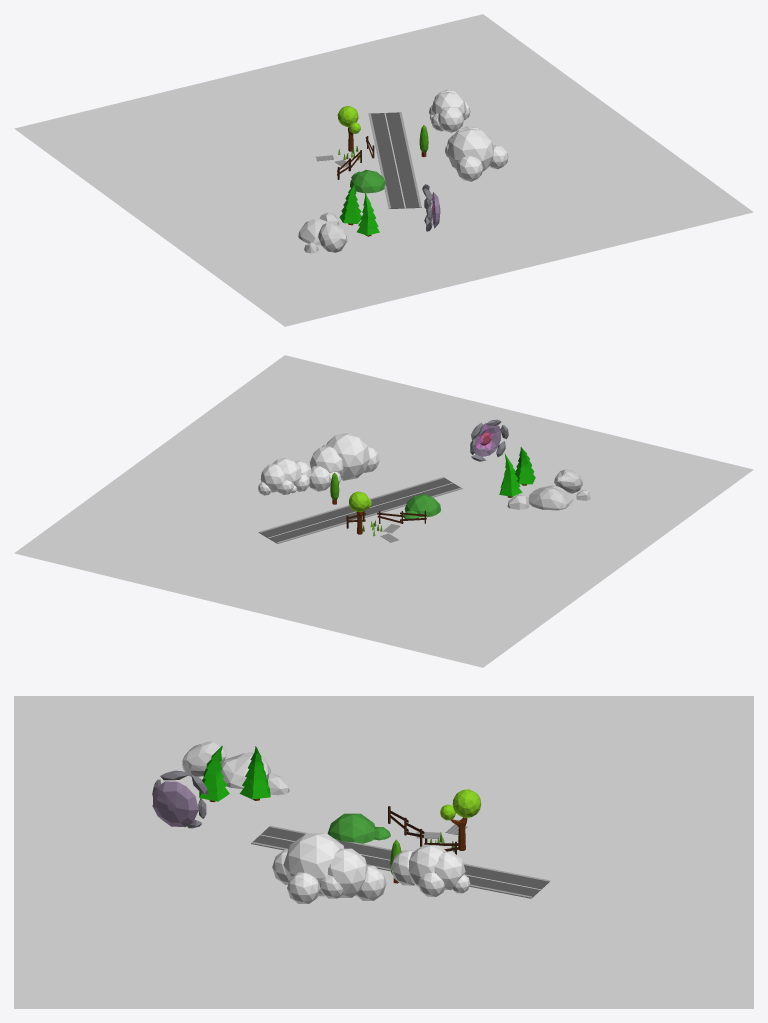
Rendered from Low-Poly_Models.dae.
3 renders of one model, top to bottom at view 1: azimuth 30°, elevation 25°; view 2: azimuth 150°, elevation 25°; view 3: azimuth 270°, elevation 25°, orthographic. The views are drawn at different scales.
Parts seen in each view (by area): view 1: Plane, Cube_016, Icosphere_016, Sphere_001, Icosphere_025, Cylinder_001, Icosphere_013, Icosphere_003, Icosphere_010, Cylinder; view 2: Plane, Cube_016, Icosphere_016, Sphere, Cylinder_011, Icosphere_017, Icosphere_025, Cylinder_001; view 3: Plane, Cube_016, Icosphere_016, Cylinder_011, Icosphere_017, Icosphere_025, Cylinder_001, Cylinder, Sphere_001, Icosphere_010, Sphere, Icosphere_015 (+4 smaller).
Boxes of the visible parts, <box> form: Plane: <box>14,14,753,326</box>; Cube_016: <box>368,112,421,208</box>; Icosphere_016: <box>447,128,493,171</box>; Sphere_001: <box>318,223,347,252</box>; Icosphere_025: <box>350,169,385,193</box>; Cylinder_001: <box>339,181,361,225</box>; Icosphere_013: <box>456,156,483,181</box>; Icosphere_003: <box>438,106,463,132</box>; Icosphere_010: <box>431,91,466,117</box>; Cylinder: <box>357,192,379,236</box>; Plane: <box>14,355,753,667</box>; Cube_016: <box>258,477,462,543</box>; Icosphere_016: <box>325,433,369,480</box>; Sphere: <box>528,485,573,510</box>; Cylinder_011: <box>472,423,500,456</box>; Icosphere_017: <box>310,446,343,477</box>; Icosphere_025: <box>405,494,440,517</box>; Cylinder_001: <box>499,453,522,497</box>; Plane: <box>14,696,753,1008</box>; Cube_016: <box>251,825,550,898</box>; Icosphere_016: <box>283,833,344,896</box>; Cylinder_011: <box>152,781,198,826</box>; Icosphere_017: <box>327,848,367,897</box>; Icosphere_025: <box>327,813,375,843</box>; Cylinder_001: <box>239,746,270,800</box>; Cylinder: <box>199,745,229,802</box>; Sphere_001: <box>182,741,227,777</box>; Icosphere_010: <box>408,844,446,887</box>; Sphere: <box>220,752,270,788</box>; Icosphere_015: <box>287,872,320,903</box>.
Bounding box in the file's own units: 47.01 × 47.01 × 6.32.
